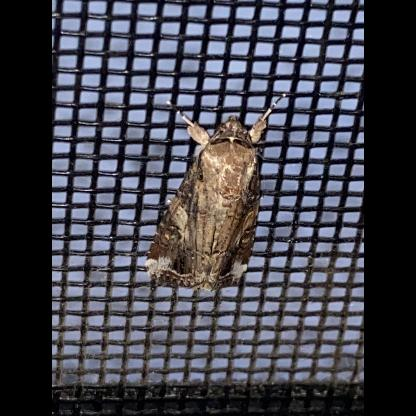Fall Armyworm Moth: (142, 90, 290, 294)
